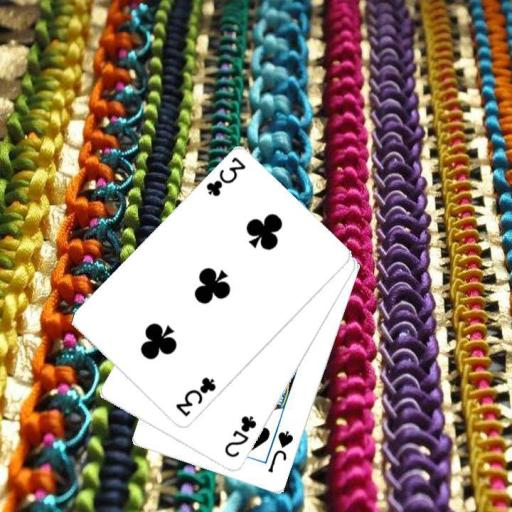2C: (221, 413, 258, 460)
3C: (172, 374, 218, 419), (203, 154, 248, 199)
JS: (265, 428, 295, 475)
